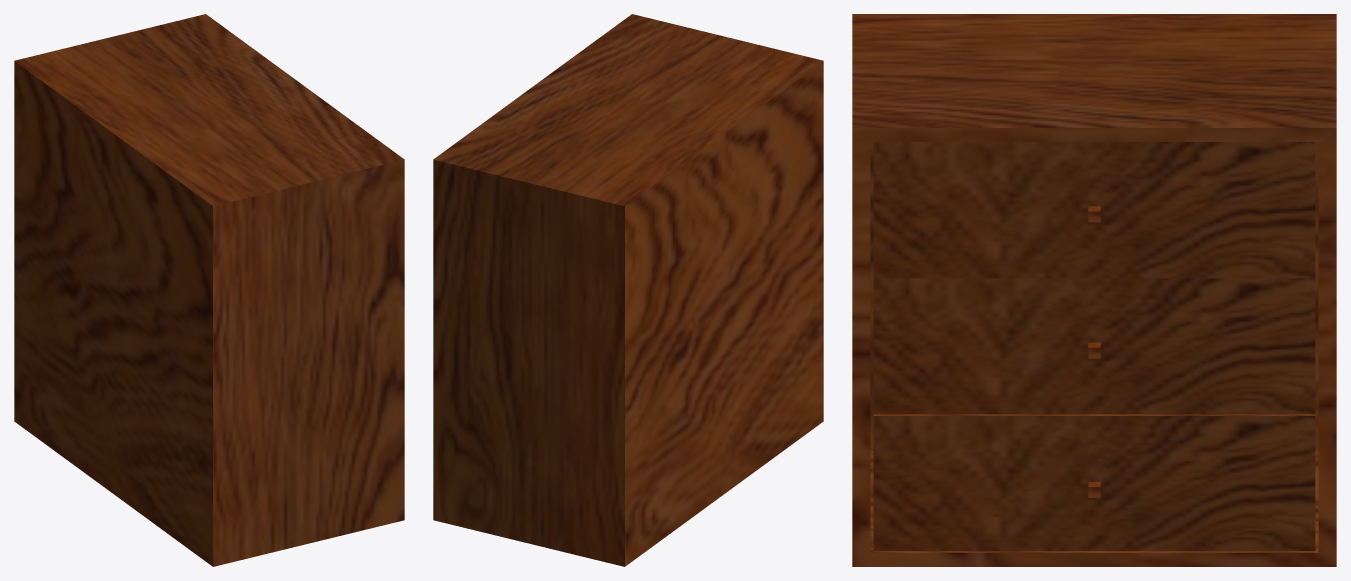
Rendered from policasafijokama.glb.
3 views of the same model, side by side, from view 1: azimuth 30°, elevation 25°; view 2: azimuth 150°, elevation 25°; view 3: azimuth 270°, elevation 25° (orthographic). The views are drawn at different scales.
Parts seen in each view (by area): view 1: Frame; view 2: Frame; view 3: Frame, SrednjaFijoka, DoleFijoka, GoreFijoka.
Part boxes in pixels (x1=…): Frame: x1=14, y1=14, x2=404, y2=566; Frame: x1=433, y1=14, x2=823, y2=566; Frame: x1=852, y1=14, x2=1336, y2=566; SrednjaFijoka: x1=873, y1=276, x2=1315, y2=414; DoleFijoka: x1=873, y1=414, x2=1315, y2=550; GoreFijoka: x1=873, y1=142, x2=1315, y2=278.
Size of the model in its own units: 0.4894 by 0.8556 by 0.8556.
2 materials, 2 textured.
